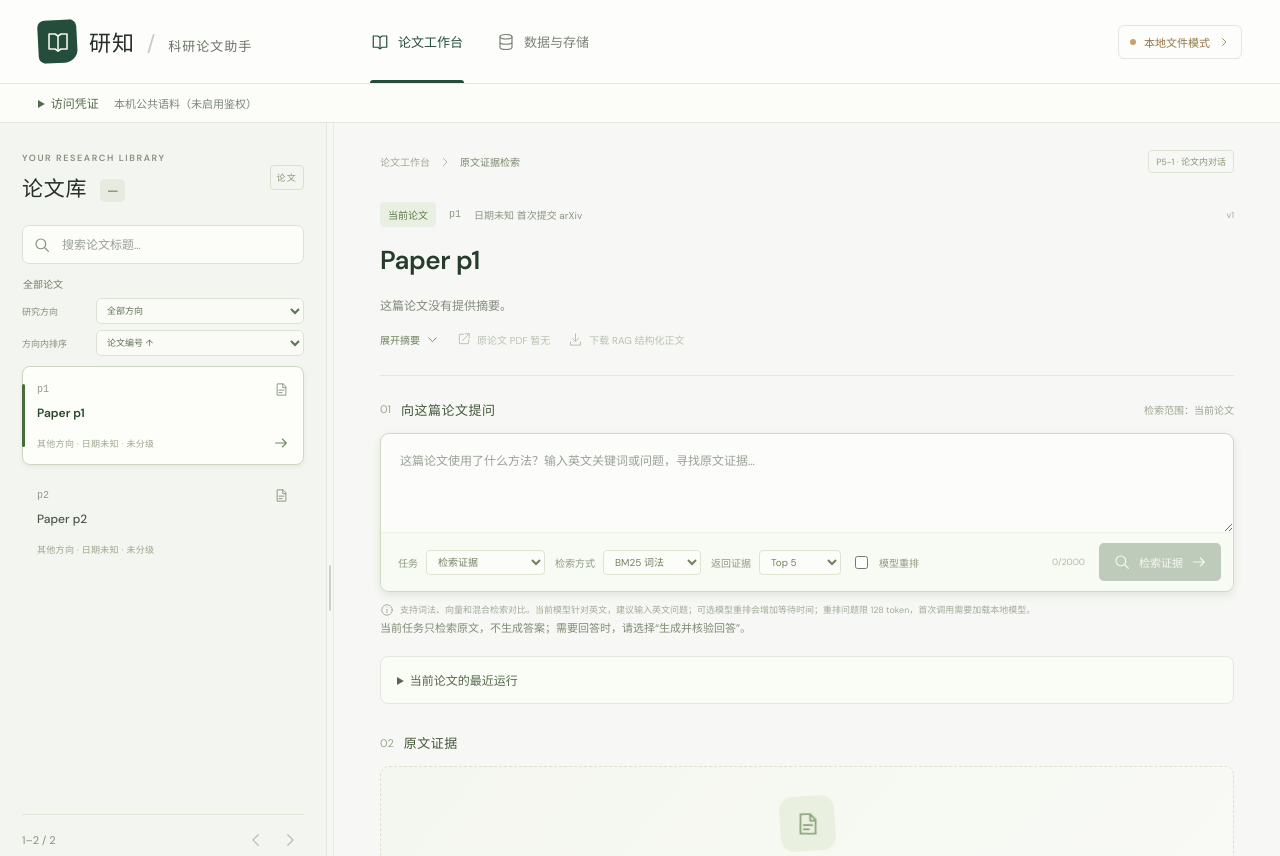
Test: does not create or send memory when disabled
Expected: the heading "Paper p1" below "首次提交 arXiv" is shown, [380,243,480,277]
Select "生成并核验回答" in the dropdown labelled "任务" at (486, 562), box [426,550,545,575]
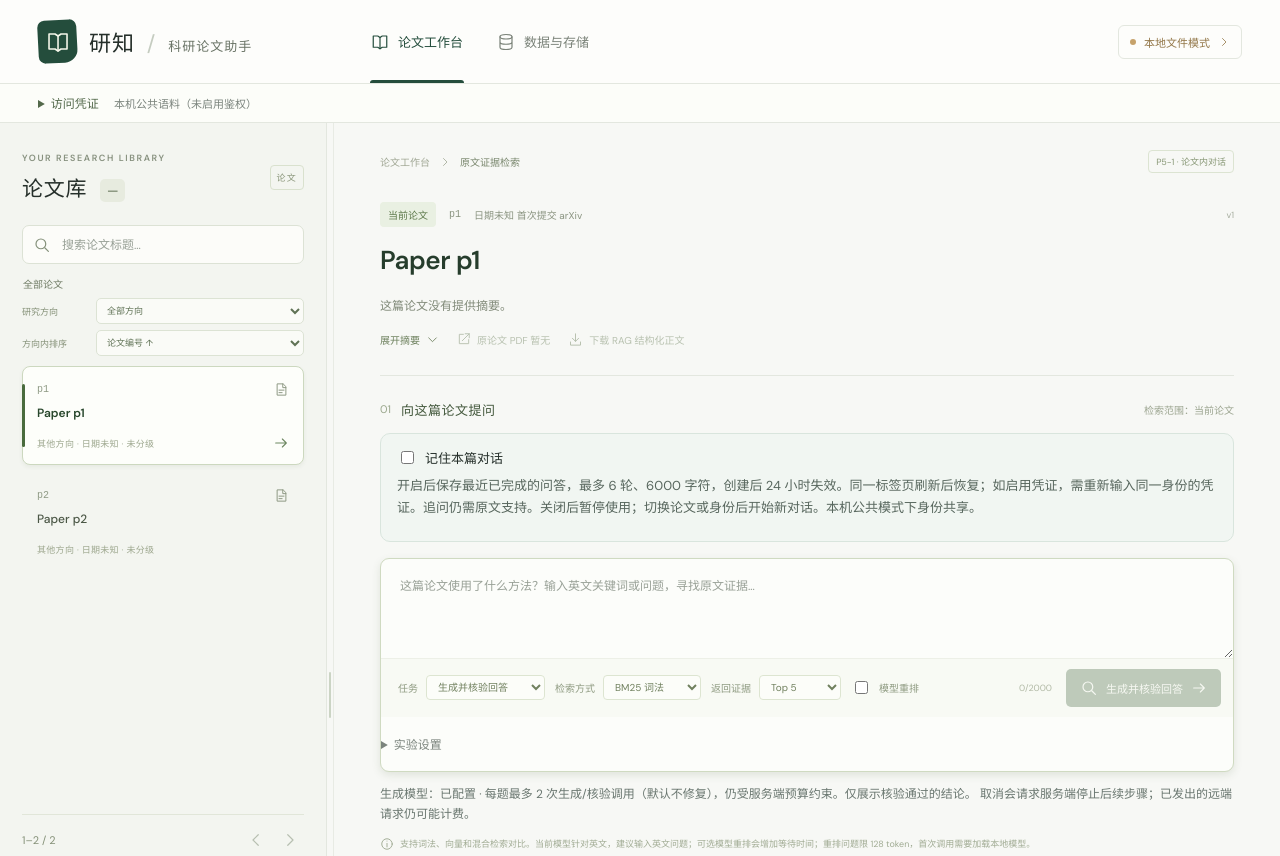
Type "alpha method" into the text box named "输入检索问题" at (807, 608), box [381,559,1233,658]
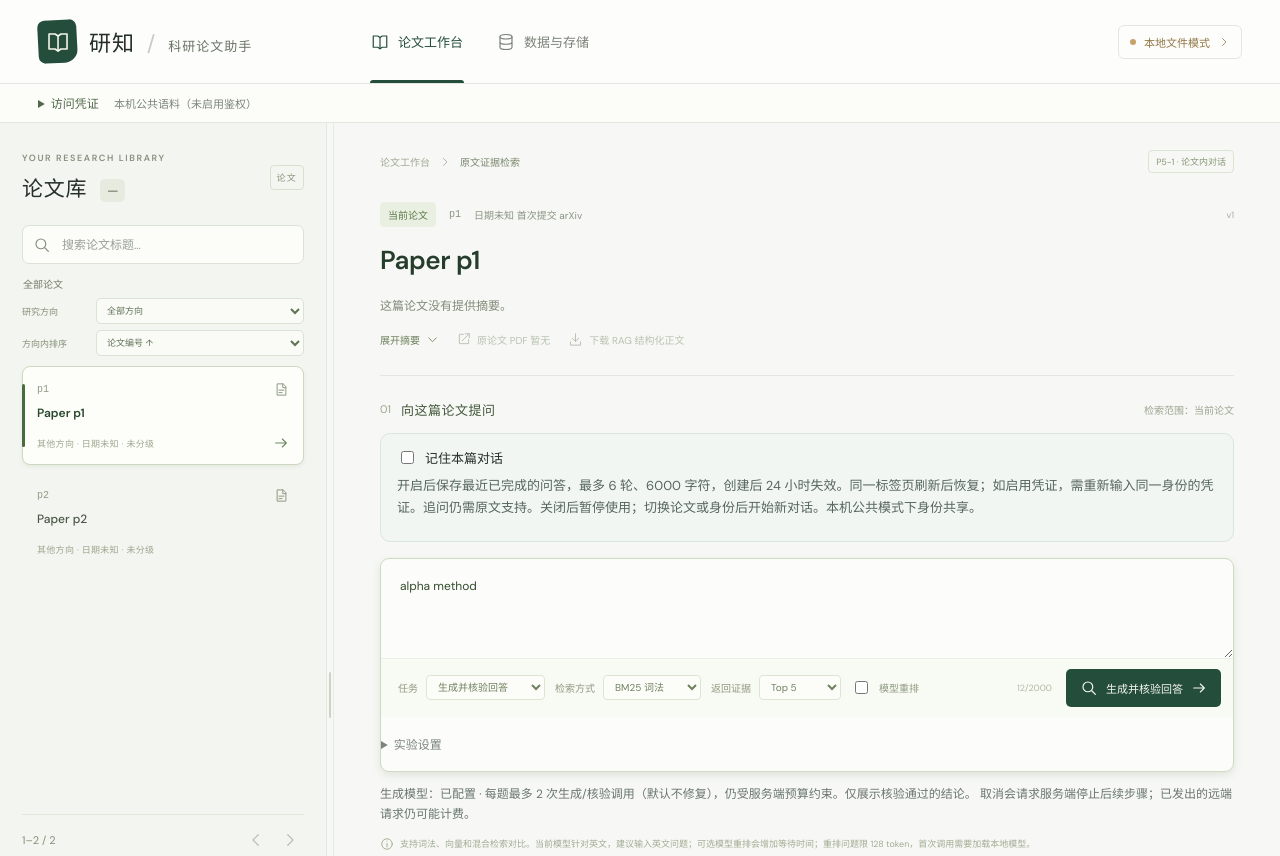
Click the button "生成并核验回答" at (1144, 688), box [1066,669,1221,707]
(page scrolled)
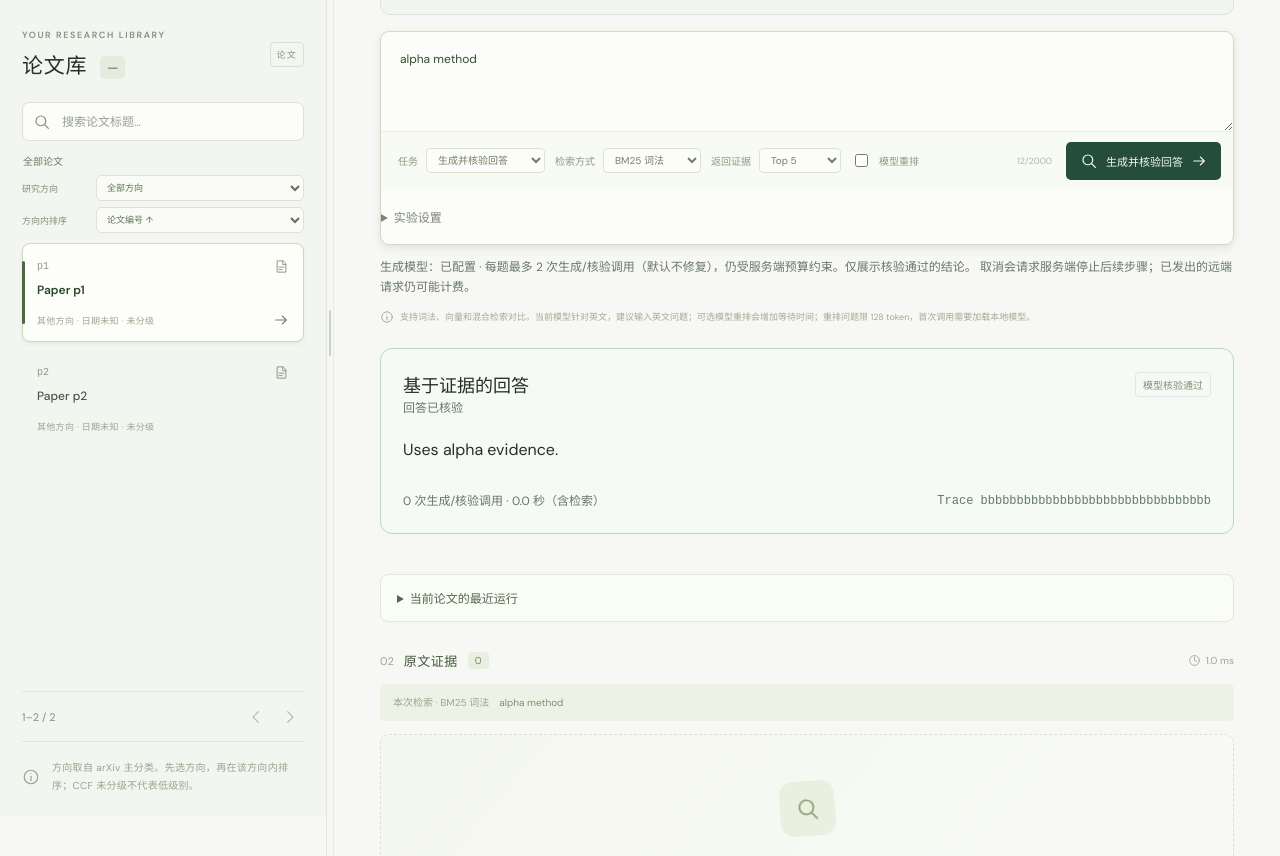
Now the text "Uses alpha evidence." is shown, box [403,439,558,460]
